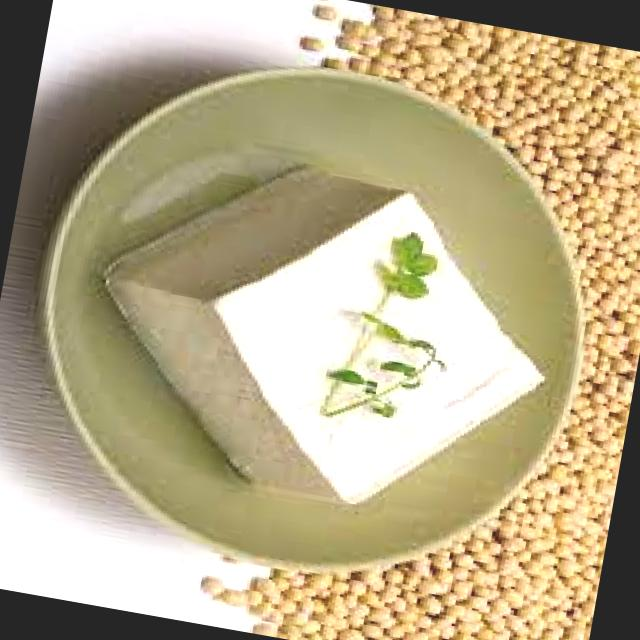tof: (45, 118, 572, 558)
